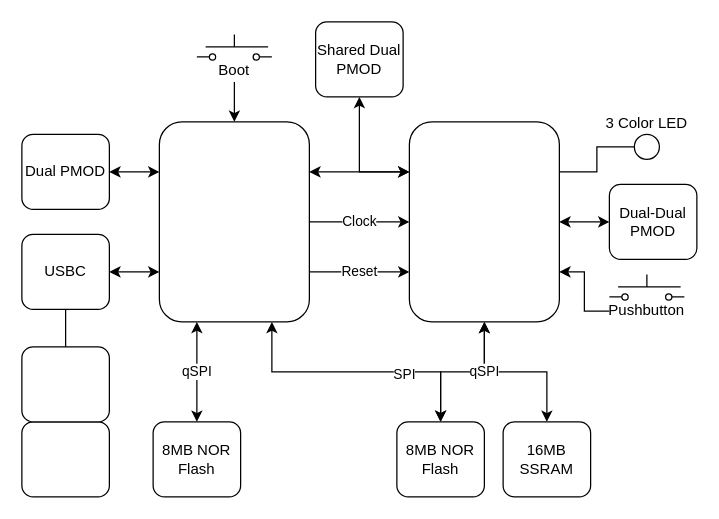
Image size: 719x519. Some labels were removed from this diagram. The centre of each missing label's shape, as x and y in pixels:
"1.2V LDO" goes at (65,384).
"3.3V LDO" goes at (65,459).
"iCE40UP5K FPGA" goes at (483,221).
"RP2040 Microcontroller" goes at (233,221).
